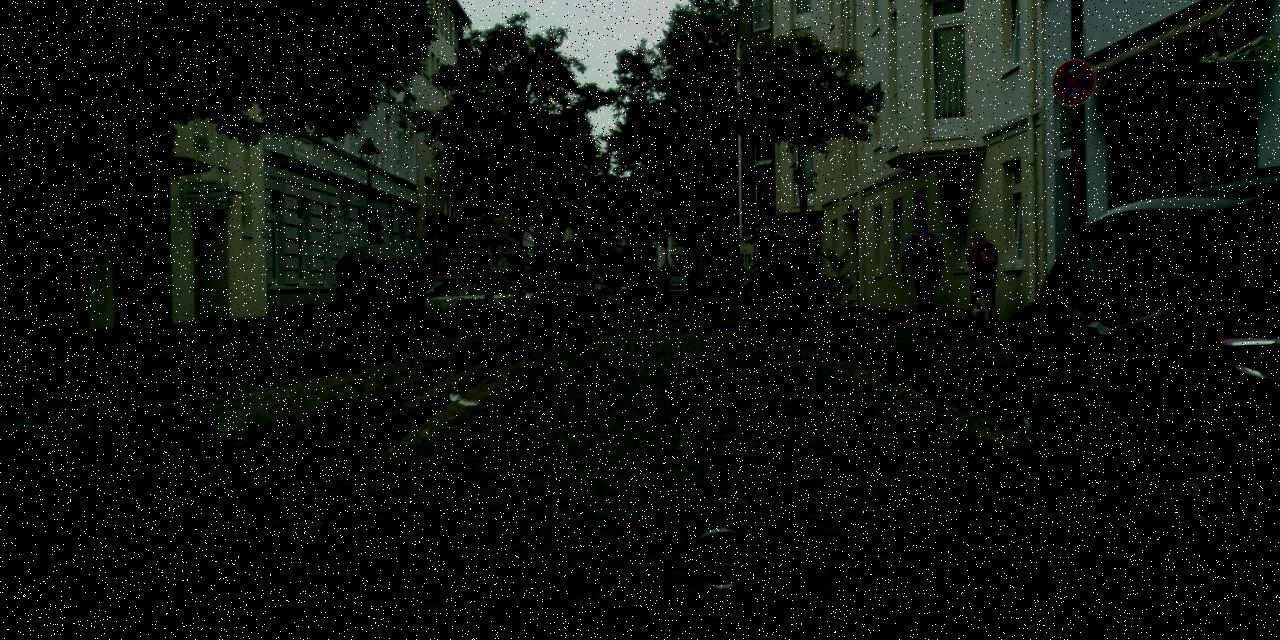ped: (900, 216, 949, 335), (961, 228, 1002, 332)
